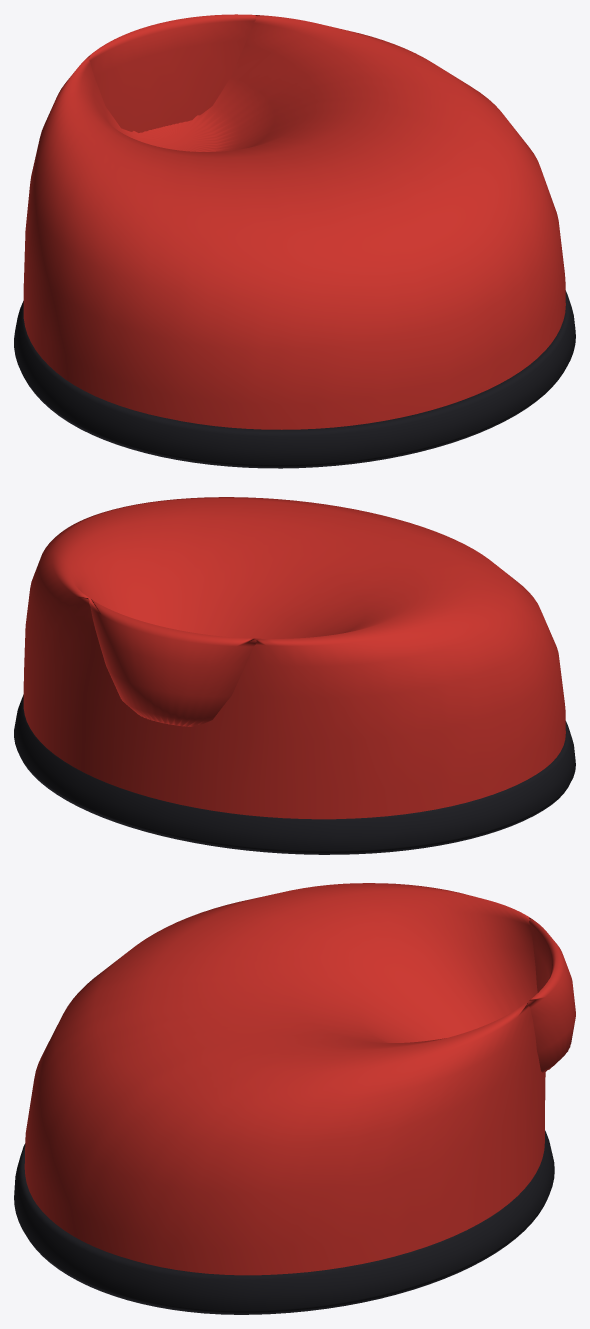
File: hw_stocking.glb
3 views of the same model, one above another, from view 1: azimuth 30°, elevation 25°; view 2: azimuth 150°, elevation 25°; view 3: azimuth 270°, elevation 25° (orthographic). The views are drawn at different scales.
Visible parts, largest first — view 1: hw_stocking, hw_stocking_rim; view 2: hw_stocking, hw_stocking_rim; view 3: hw_stocking, hw_stocking_rim.
Part boxes in pixels (x1,y1,x2,y2): hw_stocking: [23, 14, 565, 429]; hw_stocking_rim: [14, 290, 575, 468]; hw_stocking: [23, 497, 565, 819]; hw_stocking_rim: [14, 694, 575, 854]; hw_stocking: [24, 883, 575, 1275]; hw_stocking_rim: [14, 1130, 554, 1314].
Bounding box in the file's own units: 0.913 × 0.4173 × 0.8628.
